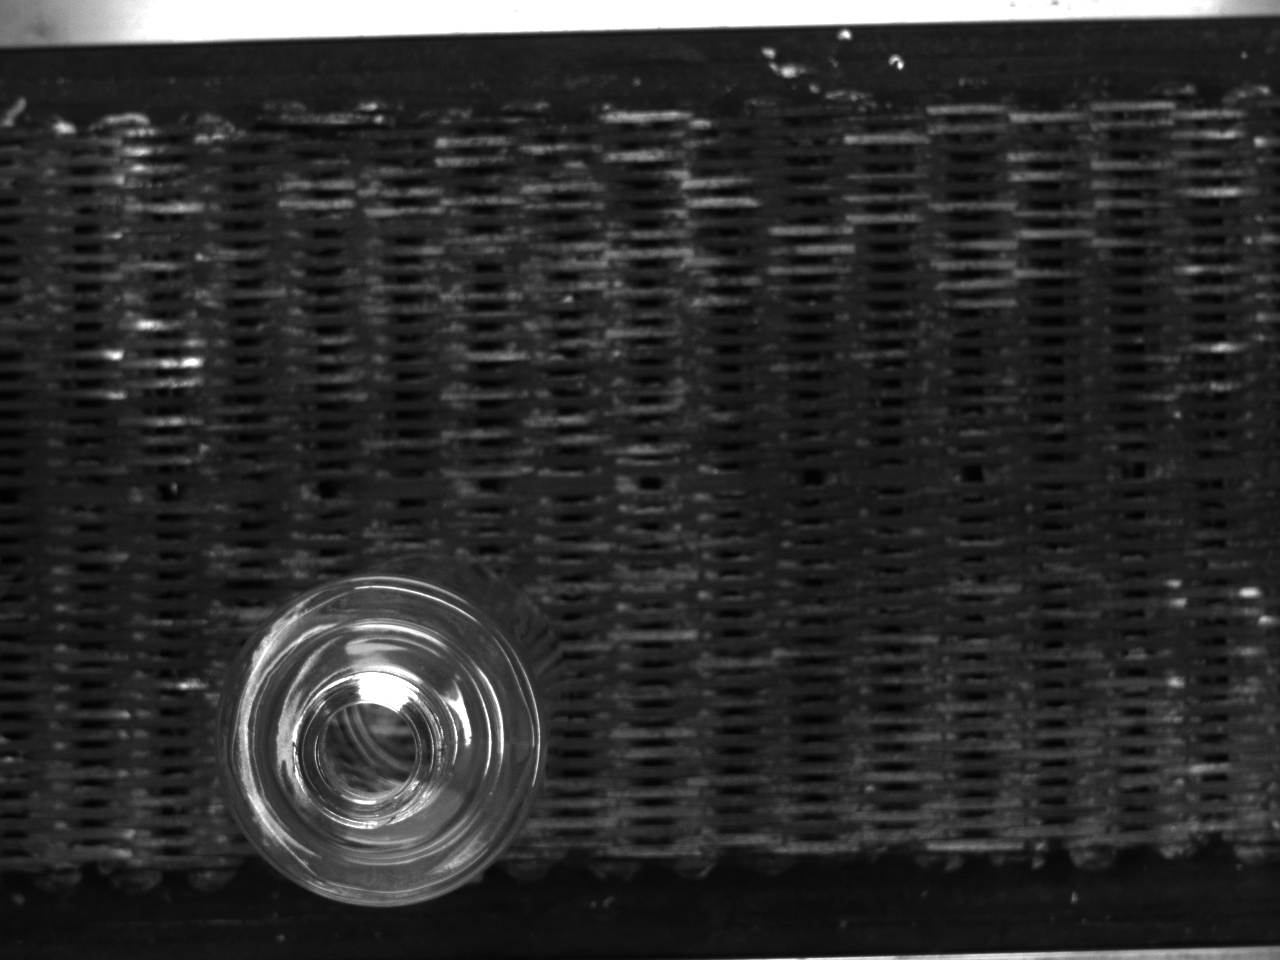bottleneck: (296, 672, 452, 831)
